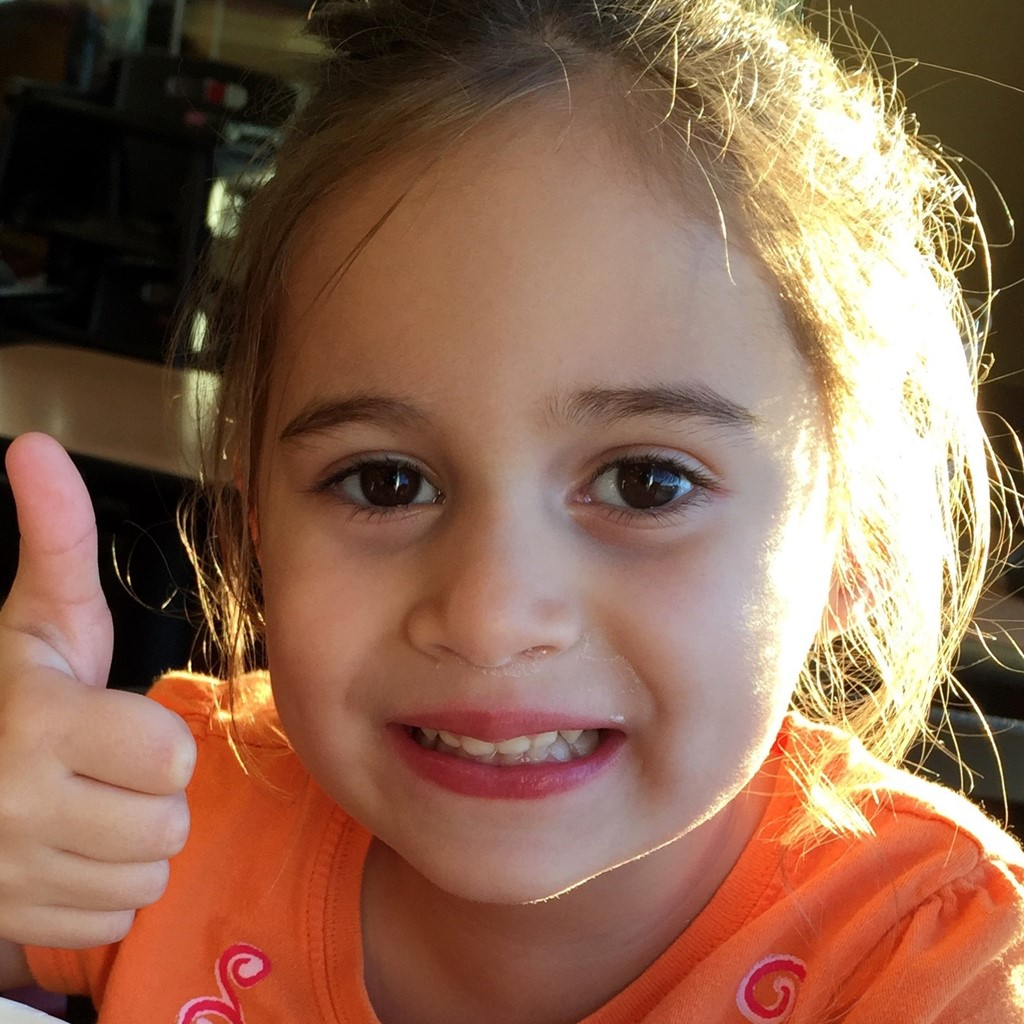sin_mascara: (218, 54, 838, 903)
